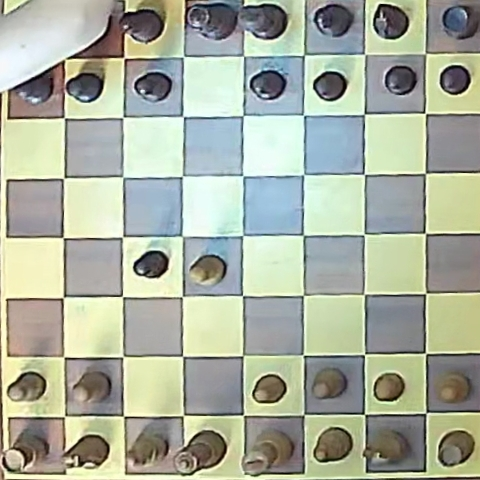black-bishop: (120, 9, 164, 44), (313, 4, 353, 38)
black-king: (236, 3, 284, 40)
black-knight: (373, 4, 409, 40)
black-pawn: (15, 71, 54, 104), (133, 71, 171, 102), (65, 72, 104, 102), (250, 70, 285, 100), (133, 250, 168, 279), (313, 71, 346, 101), (384, 65, 417, 95), (439, 65, 470, 94)
black-queen: (187, 3, 239, 40)
black-rook: (440, 5, 478, 39)
white-bishop: (123, 435, 166, 470), (313, 427, 352, 463)
white-king: (242, 429, 294, 476)
white-knight: (62, 434, 109, 470), (363, 429, 409, 464)
white-pawn: (72, 371, 109, 404), (7, 371, 46, 402), (189, 255, 225, 286), (436, 372, 469, 404), (312, 368, 346, 399), (252, 374, 286, 404), (373, 373, 405, 402)
white-queen: (172, 430, 226, 474)
white-rook: (1, 430, 48, 472), (437, 431, 474, 466)
